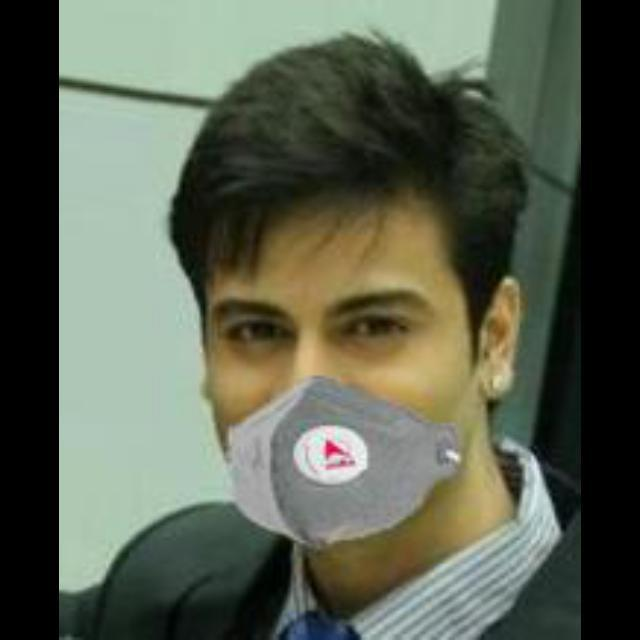suspicion: (198, 118, 510, 554)
